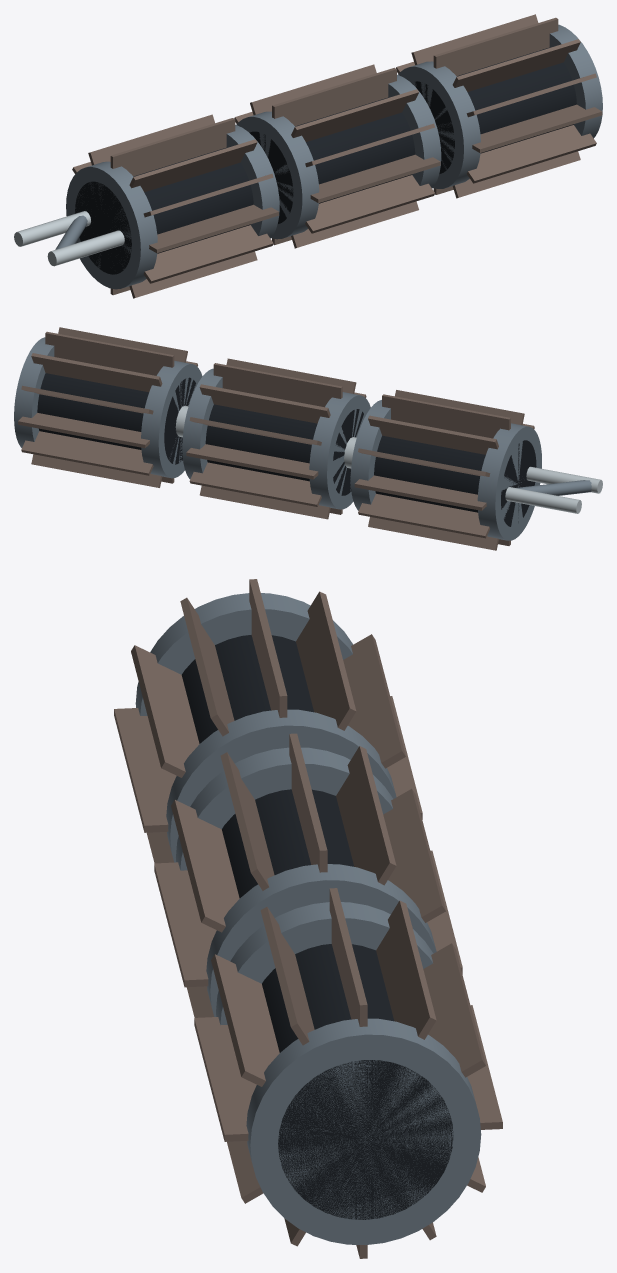
File: voyager_rtg_boom_stowed.glb
3 views of the same model, one above another, from view 1: azimuth 30°, elevation 25°; view 2: azimuth 150°, elevation 25°; view 3: azimuth 270°, elevation 25° (orthographic). The views are drawn at different scales.
Visible parts, largest first — view 1: voyager_rtg_boom.deployment.rtg_01.mesh_Heat-stained_alloy, voyager_rtg_boom.deployment.rtg_03.mesh_Heat-stained_alloy, voyager_rtg_boom.deployment.rtg_02.mesh_Heat-stained_alloy, voyager_rtg_boom.deployment.rtg_01.mesh_Carbon_composite, voyager_rtg_boom.deployment.rtg_01.mesh_Machined_steel, voyager_rtg_boom.deployment.rtg_03.mesh_Machined_steel, voyager_rtg_boom.deployment.rtg_02.mesh_Machined_steel, voyager_rtg_boom.deployment.rtg_03.mesh_Carbon_composite, voyager_rtg_boom.deployment.rtg_02.mesh_Carbon_composite, voyager_rtg_boom.deployment.mesh_Satin_aluminum, voyager_rtg_boom.deployment.mesh_Machined_steel; view 2: voyager_rtg_boom.deployment.rtg_03.mesh_Heat-stained_alloy, voyager_rtg_boom.deployment.rtg_02.mesh_Heat-stained_alloy, voyager_rtg_boom.deployment.rtg_01.mesh_Heat-stained_alloy, voyager_rtg_boom.deployment.rtg_01.mesh_Machined_steel, voyager_rtg_boom.deployment.rtg_02.mesh_Machined_steel, voyager_rtg_boom.deployment.rtg_01.mesh_Carbon_composite, voyager_rtg_boom.deployment.rtg_03.mesh_Carbon_composite, voyager_rtg_boom.deployment.rtg_03.mesh_Machined_steel, voyager_rtg_boom.deployment.rtg_02.mesh_Carbon_composite, voyager_rtg_boom.deployment.mesh_Satin_aluminum, voyager_rtg_boom.deployment.mesh_Machined_steel; view 3: voyager_rtg_boom.deployment.rtg_03.mesh_Machined_steel, voyager_rtg_boom.deployment.rtg_03.mesh_Carbon_composite, voyager_rtg_boom.deployment.rtg_03.mesh_Heat-stained_alloy, voyager_rtg_boom.deployment.rtg_02.mesh_Heat-stained_alloy, voyager_rtg_boom.deployment.rtg_01.mesh_Heat-stained_alloy, voyager_rtg_boom.deployment.rtg_02.mesh_Machined_steel, voyager_rtg_boom.deployment.rtg_01.mesh_Machined_steel, voyager_rtg_boom.deployment.rtg_02.mesh_Carbon_composite, voyager_rtg_boom.deployment.rtg_01.mesh_Carbon_composite.
Part boxes in pixels (x1=…): voyager_rtg_boom.deployment.rtg_01.mesh_Heat-stained_alloy: x1=72, y1=114, x2=278, y2=298; voyager_rtg_boom.deployment.rtg_03.mesh_Heat-stained_alloy: x1=396, y1=14, x2=602, y2=198; voyager_rtg_boom.deployment.rtg_02.mesh_Heat-stained_alloy: x1=234, y1=64, x2=440, y2=248; voyager_rtg_boom.deployment.rtg_01.mesh_Carbon_composite: x1=75, y1=147, x2=253, y2=274; voyager_rtg_boom.deployment.rtg_01.mesh_Machined_steel: x1=66, y1=125, x2=279, y2=289; voyager_rtg_boom.deployment.rtg_03.mesh_Machined_steel: x1=398, y1=24, x2=602, y2=188; voyager_rtg_boom.deployment.rtg_02.mesh_Machined_steel: x1=236, y1=74, x2=441, y2=239; voyager_rtg_boom.deployment.rtg_03.mesh_Carbon_composite: x1=415, y1=47, x2=576, y2=173; voyager_rtg_boom.deployment.rtg_02.mesh_Carbon_composite: x1=249, y1=97, x2=415, y2=223; voyager_rtg_boom.deployment.mesh_Satin_aluminum: x1=14, y1=211, x2=124, y2=266; voyager_rtg_boom.deployment.mesh_Machined_steel: x1=55, y1=215, x2=87, y2=249; voyager_rtg_boom.deployment.rtg_03.mesh_Heat-stained_alloy: x1=18, y1=327, x2=197, y2=487; voyager_rtg_boom.deployment.rtg_02.mesh_Heat-stained_alloy: x1=186, y1=358, x2=366, y2=519; voyager_rtg_boom.deployment.rtg_01.mesh_Heat-stained_alloy: x1=354, y1=390, x2=534, y2=550; voyager_rtg_boom.deployment.rtg_01.mesh_Machined_steel: x1=350, y1=400, x2=541, y2=540; voyager_rtg_boom.deployment.rtg_02.mesh_Machined_steel: x1=182, y1=368, x2=370, y2=509; voyager_rtg_boom.deployment.rtg_01.mesh_Carbon_composite: x1=374, y1=435, x2=536, y2=526; voyager_rtg_boom.deployment.rtg_03.mesh_Carbon_composite: x1=37, y1=373, x2=195, y2=464; voyager_rtg_boom.deployment.rtg_03.mesh_Machined_steel: x1=14, y1=337, x2=202, y2=478; voyager_rtg_boom.deployment.rtg_02.mesh_Carbon_composite: x1=205, y1=404, x2=363, y2=495; voyager_rtg_boom.deployment.mesh_Satin_aluminum: x1=175, y1=405, x2=602, y2=513; voyager_rtg_boom.deployment.mesh_Machined_steel: x1=516, y1=480, x2=591, y2=495; voyager_rtg_boom.deployment.rtg_03.mesh_Machined_steel: x1=216, y1=902, x2=481, y2=1245; voyager_rtg_boom.deployment.rtg_03.mesh_Carbon_composite: x1=262, y1=944, x2=453, y2=1219; voyager_rtg_boom.deployment.rtg_03.mesh_Heat-stained_alloy: x1=194, y1=888, x2=502, y2=1258; voyager_rtg_boom.deployment.rtg_02.mesh_Heat-stained_alloy: x1=154, y1=733, x2=462, y2=1017; voyager_rtg_boom.deployment.rtg_01.mesh_Heat-stained_alloy: x1=114, y1=579, x2=422, y2=863; voyager_rtg_boom.deployment.rtg_02.mesh_Machined_steel: x1=176, y1=747, x2=436, y2=1016; voyager_rtg_boom.deployment.rtg_01.mesh_Machined_steel: x1=135, y1=593, x2=396, y2=862; voyager_rtg_boom.deployment.rtg_02.mesh_Carbon_composite: x1=222, y1=789, x2=354, y2=898; voyager_rtg_boom.deployment.rtg_01.mesh_Carbon_composite: x1=181, y1=635, x2=313, y2=743.
Bounding box in the file's own units: 1.89 × 0.4338 × 0.6025.
